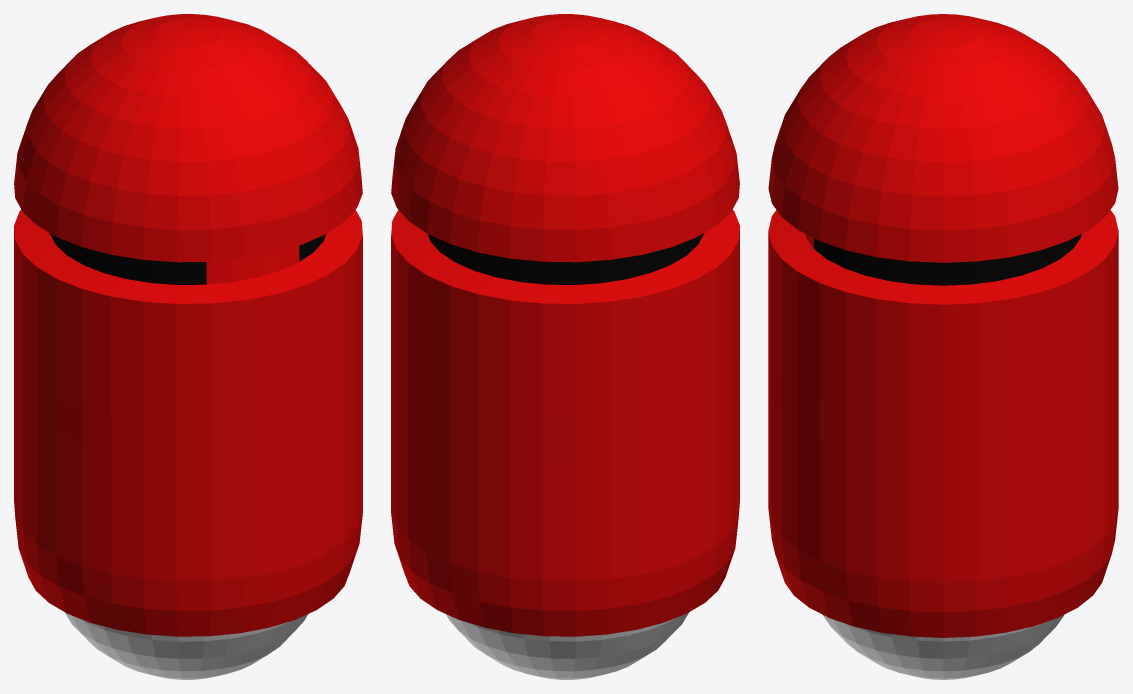
The model's file is BasicPillEnemy.glb.
3 renders of one model, left to right at view 1: azimuth 30°, elevation 25°; view 2: azimuth 150°, elevation 25°; view 3: azimuth 270°, elevation 25°, orthographic.
Parts seen in each view (by area): view 1: Sphere; view 2: Sphere; view 3: Sphere.
Part boxes in pixels (x1,y1,x2,y2): Sphere: (14, 14, 362, 679); Sphere: (391, 14, 739, 679); Sphere: (768, 14, 1118, 679).
Size of the model in its own units: 1 by 2.01 by 1.
